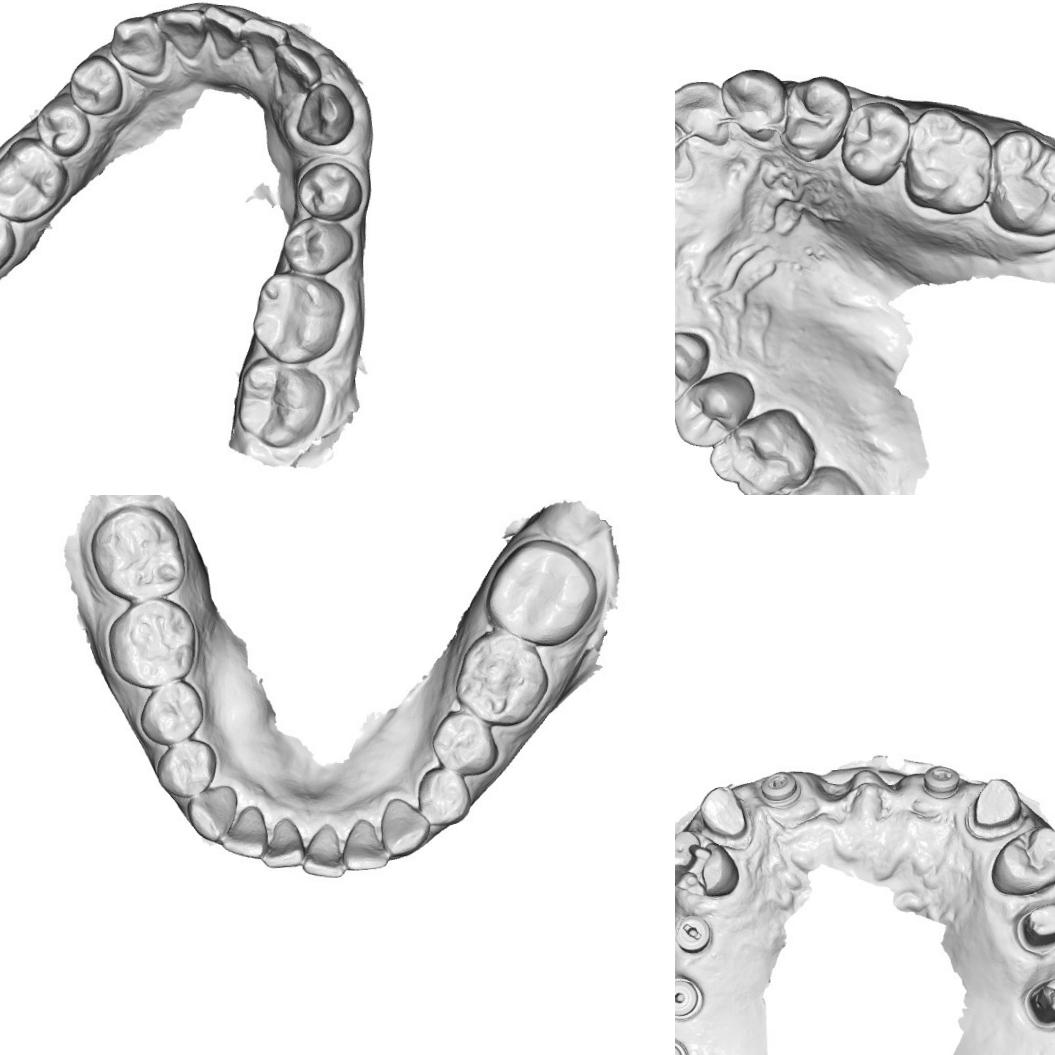abutment: (1013, 899, 1055, 957), (1022, 970, 1055, 1031)
canine: (721, 66, 788, 144), (293, 82, 360, 148), (111, 14, 165, 74), (187, 783, 238, 838), (380, 797, 429, 854)
crown: (968, 776, 1026, 838), (696, 784, 752, 844)
implant: (675, 974, 702, 1019)
implant_minus: (917, 763, 966, 803), (675, 910, 715, 957), (758, 769, 803, 810)
incisor: (675, 79, 729, 140), (159, 0, 209, 62), (237, 16, 291, 70), (273, 43, 324, 98), (204, 4, 250, 62), (298, 816, 342, 876), (224, 806, 272, 858), (341, 816, 384, 869), (264, 813, 306, 867)
inlay: (675, 838, 717, 898)
molar: (487, 538, 595, 646), (87, 502, 188, 602), (904, 107, 994, 216), (454, 628, 552, 728), (112, 588, 198, 688), (234, 362, 322, 452), (985, 129, 1055, 239), (255, 278, 340, 368), (675, 367, 760, 451), (0, 144, 62, 221), (675, 329, 708, 410), (0, 193, 18, 289)
premolar: (706, 404, 818, 495), (782, 78, 852, 162), (987, 823, 1055, 899), (430, 710, 498, 785), (845, 100, 908, 180), (297, 156, 365, 220), (284, 214, 349, 279), (139, 681, 204, 744), (156, 737, 220, 798), (759, 462, 868, 495), (72, 55, 124, 120), (418, 769, 474, 829), (34, 99, 88, 155)
